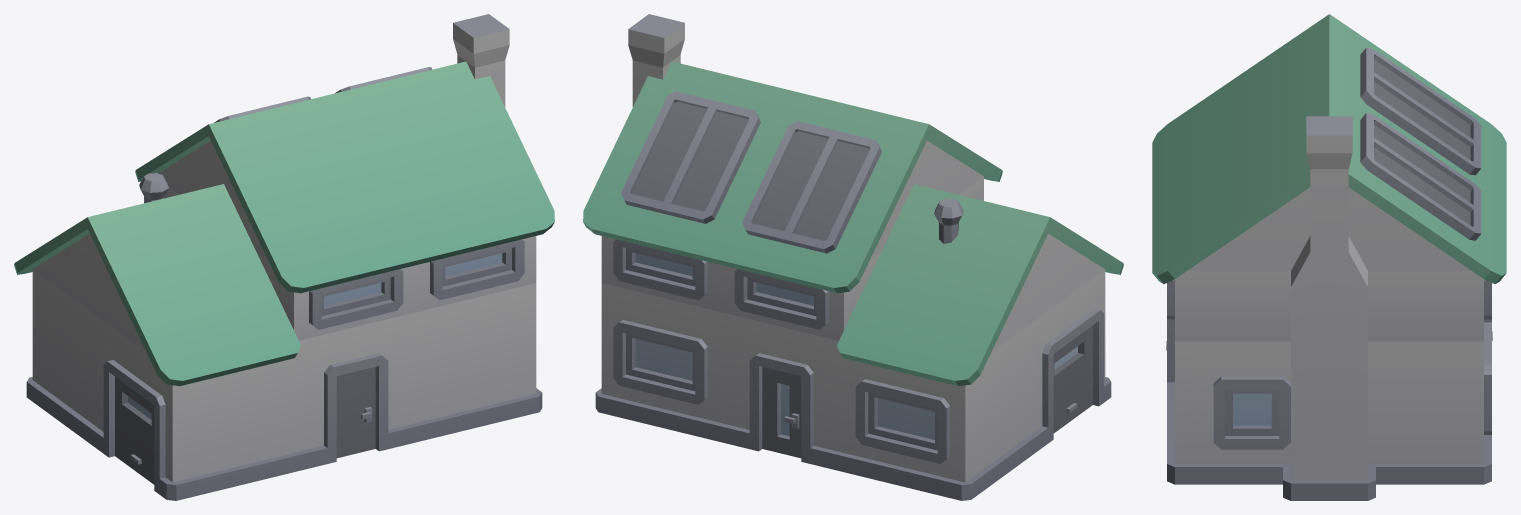
File: house-c.glb
The picture shows the model from 3 angles, left to right: view 1: azimuth 30°, elevation 25°; view 2: azimuth 150°, elevation 25°; view 3: azimuth 270°, elevation 25°; orthographic projection. The views are drawn at different scales.
Visible parts, largest first — view 1: house-c; view 2: house-c; view 3: house-c.
Boxes of the visible parts, x1,y1,x2,y2 form: house-c: (14, 14, 554, 500); house-c: (583, 14, 1123, 500); house-c: (1152, 14, 1506, 500).
Bounding box in the file's own units: 1.37 × 1.04 × 0.916.
